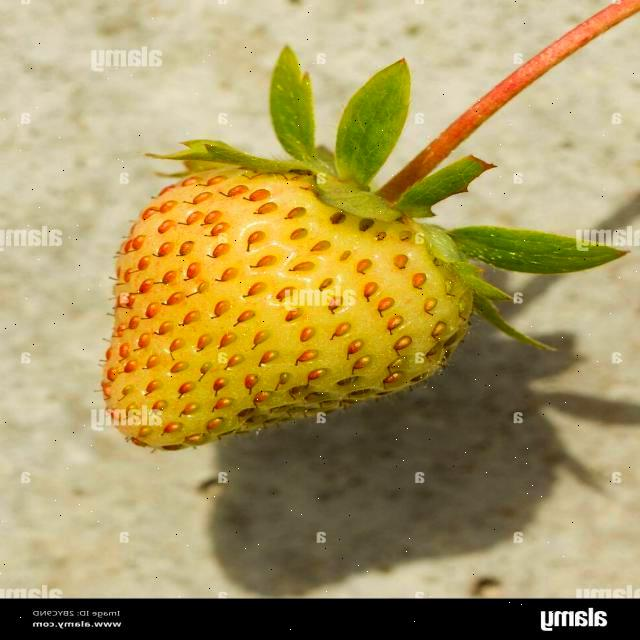strawberry: (101, 162, 471, 452)
